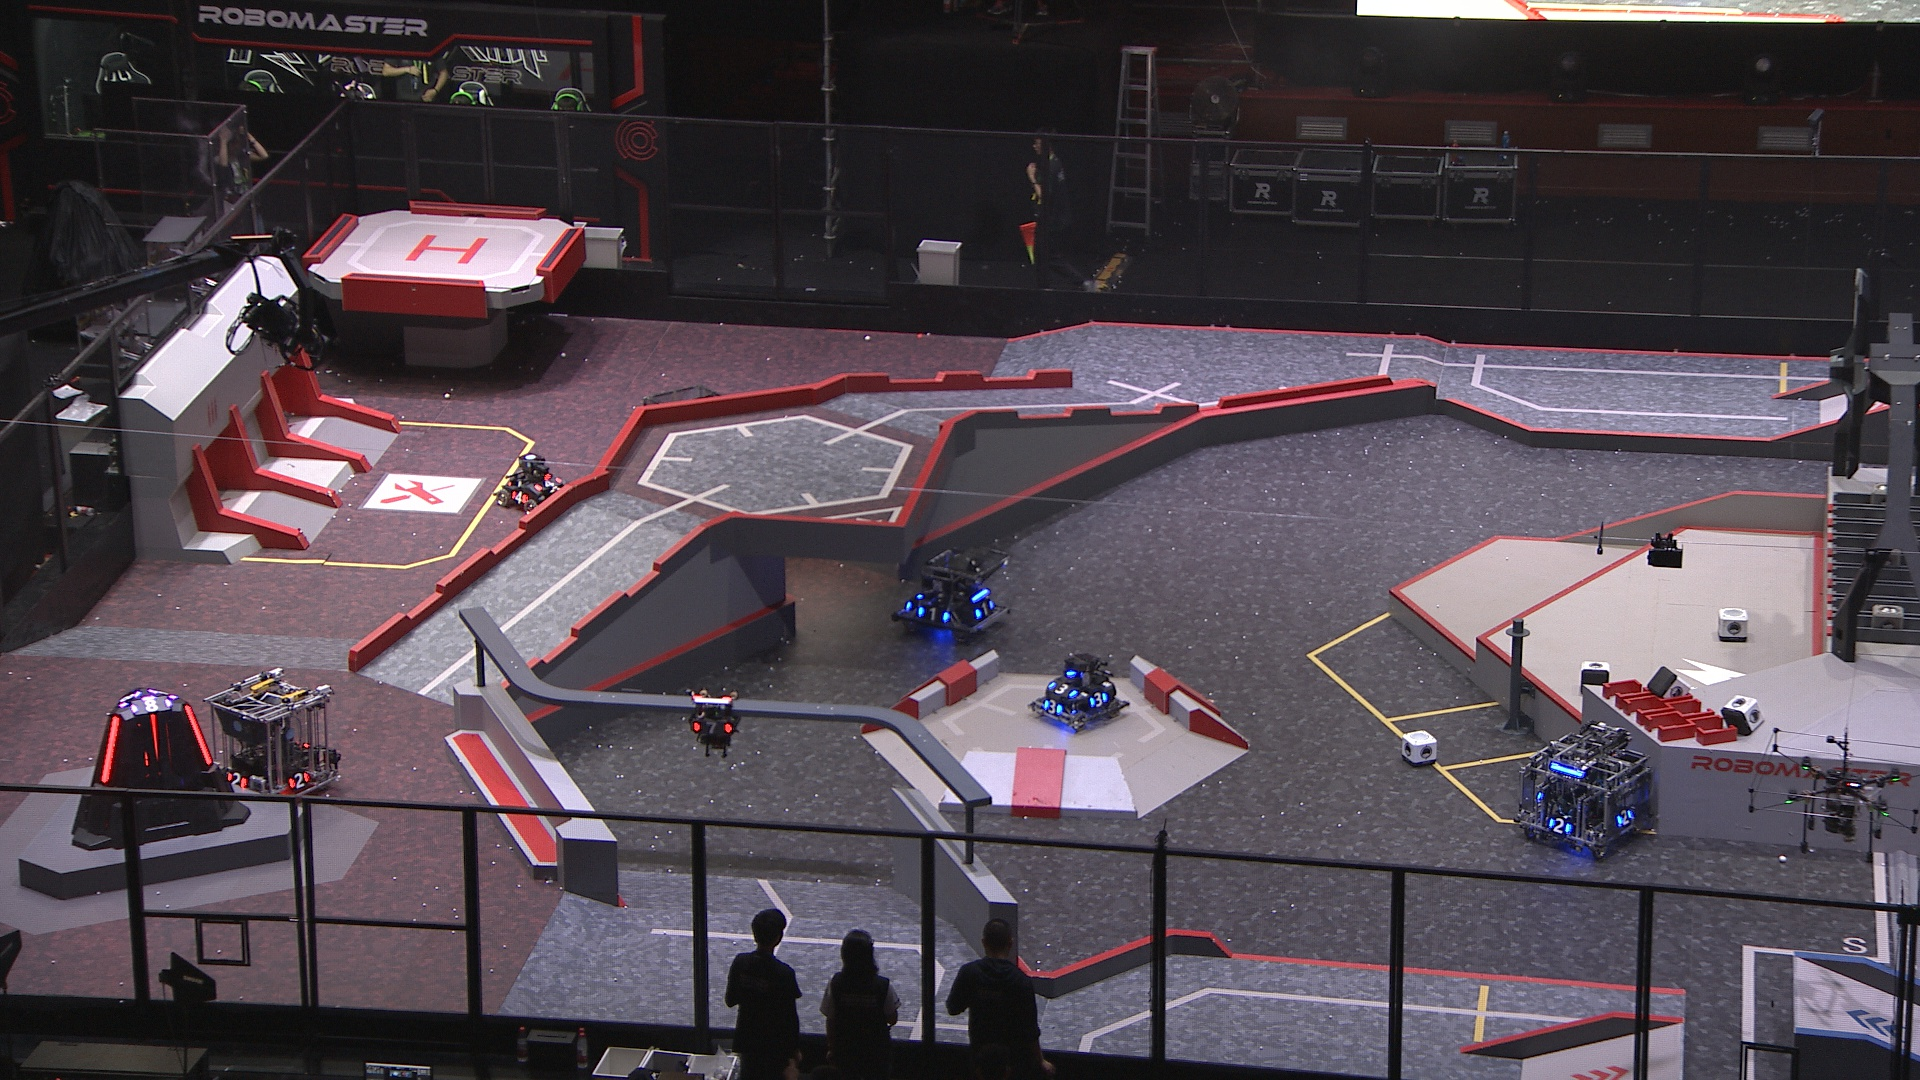armor: (181, 704, 214, 765), (98, 716, 123, 787), (916, 605, 949, 624), (690, 721, 731, 736), (1048, 680, 1077, 699), (150, 712, 161, 760), (975, 597, 996, 621), (1545, 818, 1571, 837), (531, 476, 564, 491), (225, 771, 248, 793), (1039, 698, 1063, 717), (1613, 808, 1636, 827), (287, 773, 311, 789), (1087, 692, 1109, 707), (510, 491, 531, 504)
base: (69, 684, 249, 855)
car: (1513, 723, 1660, 853), (206, 669, 342, 804), (891, 545, 1011, 641), (1025, 654, 1131, 731), (491, 452, 574, 520)
ignore: (131, 698, 173, 713), (116, 692, 136, 709)
watcher: (684, 688, 740, 760)
